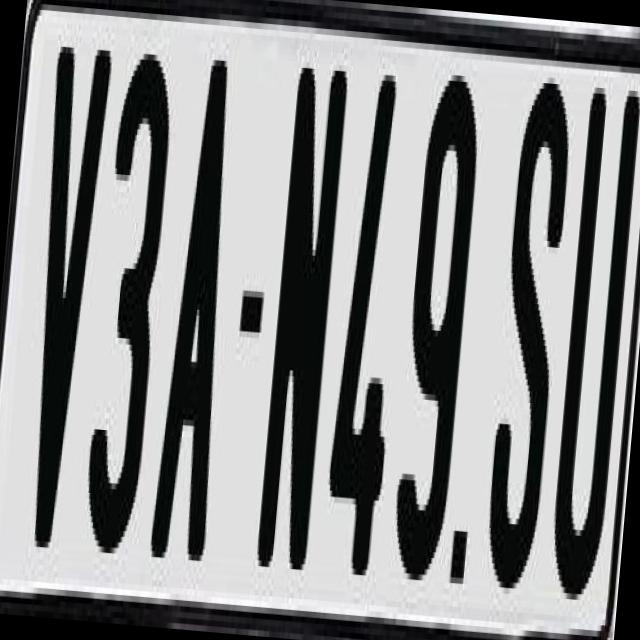3: (78, 46, 180, 584)
4: (321, 61, 426, 588)
9: (382, 67, 483, 610)
A: (144, 46, 246, 584)
N: (250, 60, 349, 588)
S: (482, 64, 586, 590)
U: (544, 69, 640, 619)
V: (10, 46, 116, 556)
